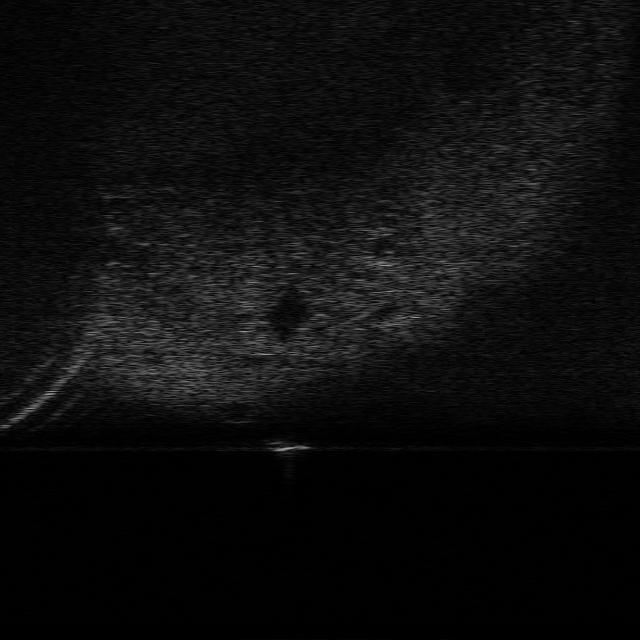cube: (266, 436, 312, 456)
